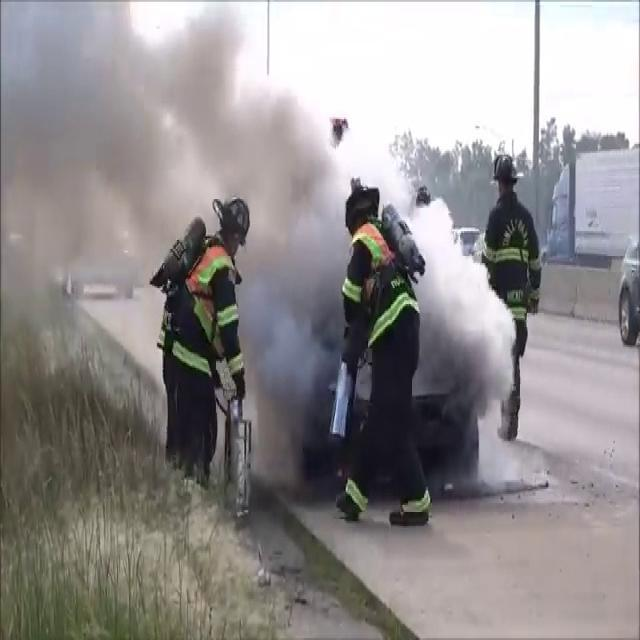Smoke: (2, 0, 352, 464), (404, 185, 518, 415)
